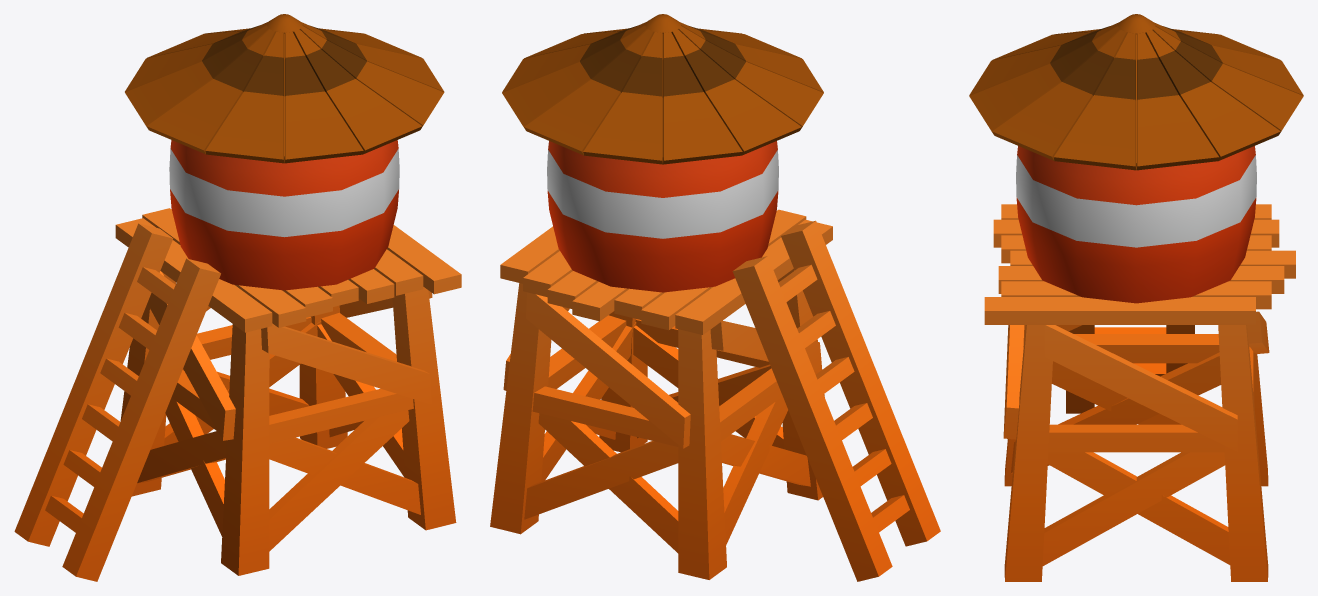
The model's file is Props_Water_Tank_01.fbx.
3 views of the same model, side by side, from view 1: azimuth 30°, elevation 25°; view 2: azimuth 150°, elevation 25°; view 3: azimuth 270°, elevation 25° (orthographic). The views are drawn at different scales.
Visible parts, largest first — view 1: Props_Water_Tank_01; view 2: Props_Water_Tank_01; view 3: Props_Water_Tank_01.
Part boxes in pixels (box(x1,y1,x2,y2)): Props_Water_Tank_01: box(14, 14, 461, 581); Props_Water_Tank_01: box(490, 14, 940, 581); Props_Water_Tank_01: box(969, 14, 1303, 581).
Bounding box in the file's own units: 564 × 689 × 410.
